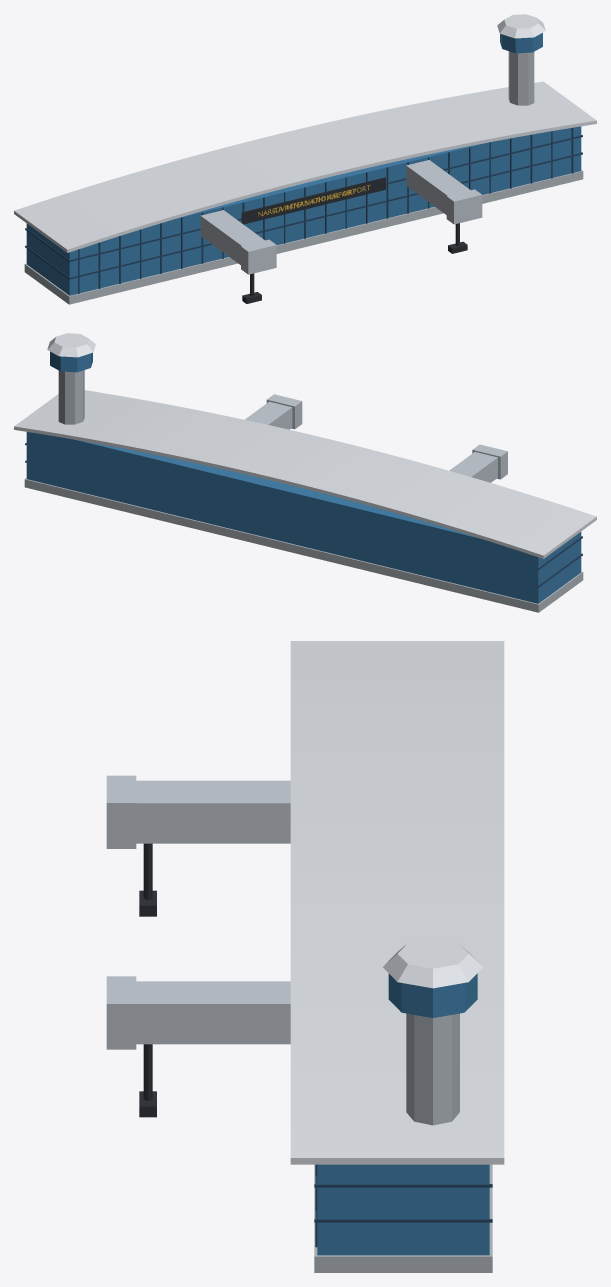
Rendered from terminal.glb.
3 renders of one model, top to bottom at view 1: azimuth 30°, elevation 25°; view 2: azimuth 150°, elevation 25°; view 3: azimuth 270°, elevation 25°, orthographic. The views are drawn at different scales.
Visible parts, largest first — view 1: Roof, GlassWall, Base, Mullions, Sign_BKK_Board, BridgeTunnel, BridgeTunnel.001, TowerShaft, BridgeCab.001, BridgeCab, TowerRoof, TowerCab; view 2: GlassWall, Roof, Base, TowerShaft, BridgeTunnel, TowerRoof, BridgeTunnel.001, TowerCab, BridgeCab.001, BridgeCab; view 3: Roof, GlassWall, BridgeTunnel, BridgeTunnel.001, TowerShaft, Base, TowerRoof, TowerCab, BridgeCab.001, BridgeCab, Mullions.
Boxes of the visible parts, <box> form: Roof: <box>14,81,596,252</box>; GlassWall: <box>26,126,581,295</box>; Base: <box>24,170,583,304</box>; Mullions: <box>25,127,582,293</box>; Sign_BKK_Board: <box>241,177,385,224</box>; BridgeTunnel: <box>200,210,264,264</box>; BridgeTunnel.001: <box>406,160,470,214</box>; TowerShaft: <box>508,51,534,105</box>; BridgeCab.001: <box>446,189,482,224</box>; BridgeCab: <box>241,239,276,274</box>; TowerRoof: <box>497,14,545,38</box>; TowerCab: <box>500,33,542,53</box>; GlassWall: <box>26,432,581,603</box>; Roof: <box>14,390,596,558</box>; Base: <box>24,478,583,612</box>; TowerShaft: <box>58,370,84,424</box>; BridgeTunnel: <box>449,452,497,482</box>; TowerRoof: <box>47,333,95,357</box>; BridgeTunnel.001: <box>245,401,292,429</box>; TowerCab: <box>50,351,92,372</box>; BridgeCab.001: <box>266,394,302,429</box>; BridgeCab: <box>472,444,507,479</box>; Roof: <box>290,641,504,1164</box>; GlassWall: <box>317,1164,489,1255</box>; BridgeTunnel: <box>136,780,290,843</box>; BridgeTunnel.001: <box>136,981,290,1044</box>; TowerShaft: <box>406,1013,459,1125</box>; Base: <box>314,1164,492,1272</box>; TowerRoof: <box>383,938,483,988</box>; TowerCab: <box>388,973,477,1017</box>; BridgeCab.001: <box>106,976,136,1049</box>; BridgeCab: <box>106,775,136,848</box>; Mullions: <box>314,1164,492,1247</box>.
Bounding box in the file's own units: 41.2 × 10.7 × 13.4.
